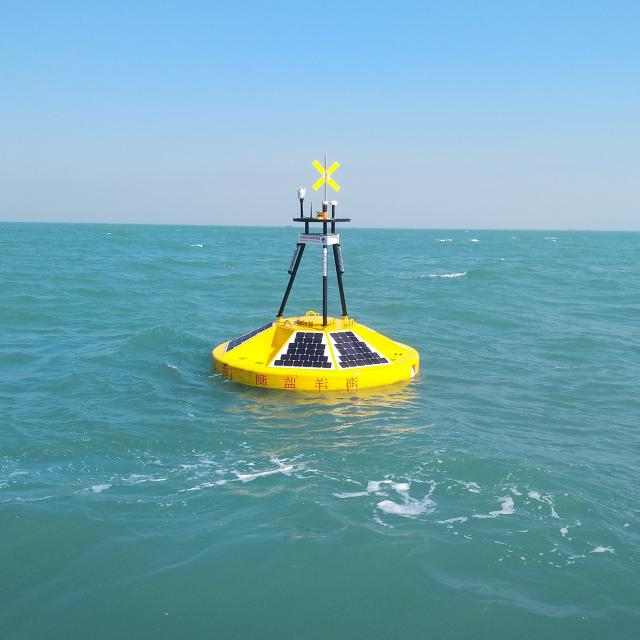buoy: (213, 149, 428, 392)
